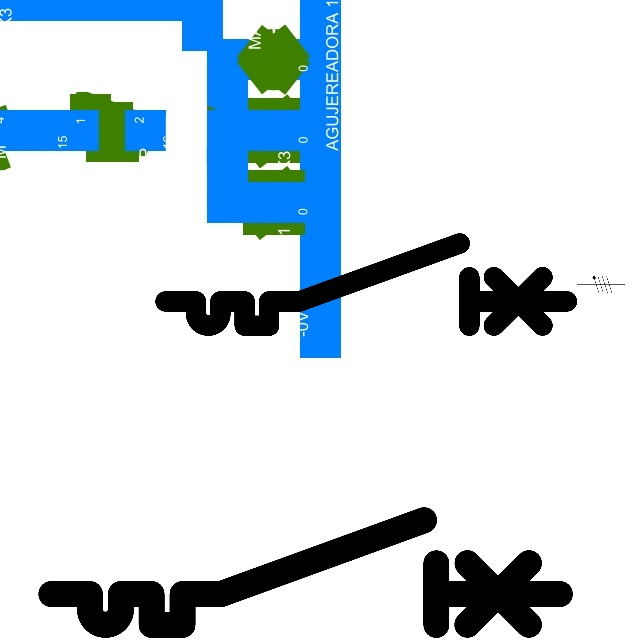interruptor_termomagnetico: (38, 507, 573, 638), (155, 233, 577, 336)
